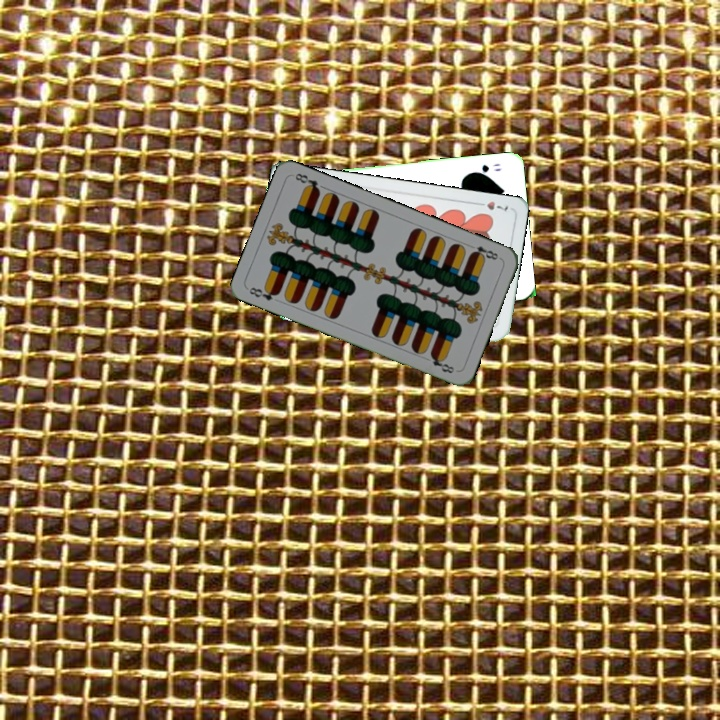E8: (464, 240, 503, 263), (245, 283, 282, 303)
GO: (467, 159, 504, 177)
H7: (472, 197, 511, 213)
